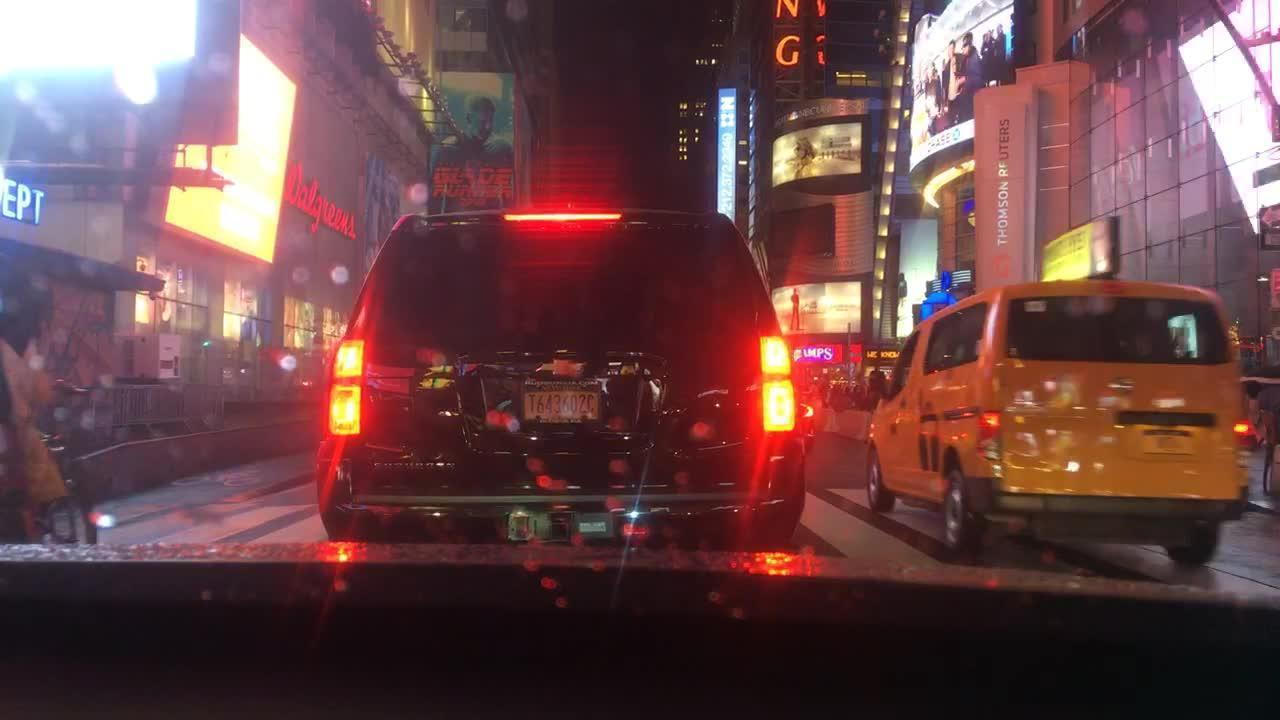Nissan: (1107, 370, 1138, 400)
chevrolet: (534, 355, 587, 381)
